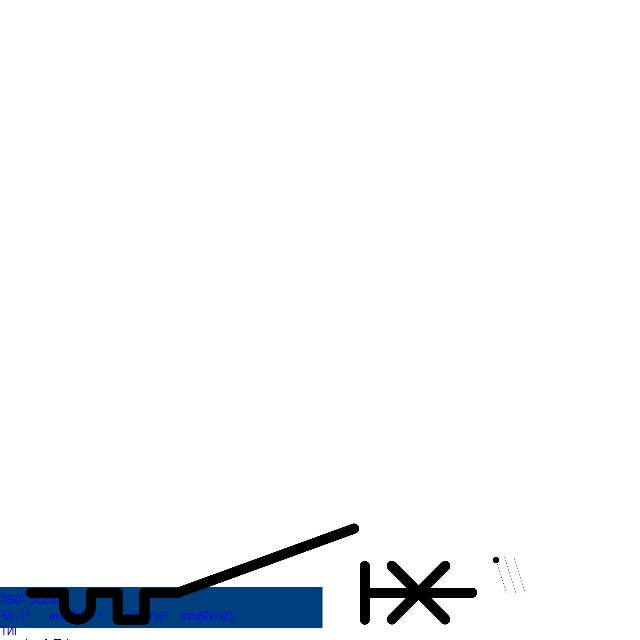interruptor_termomagnetico: (19, 517, 483, 631)
